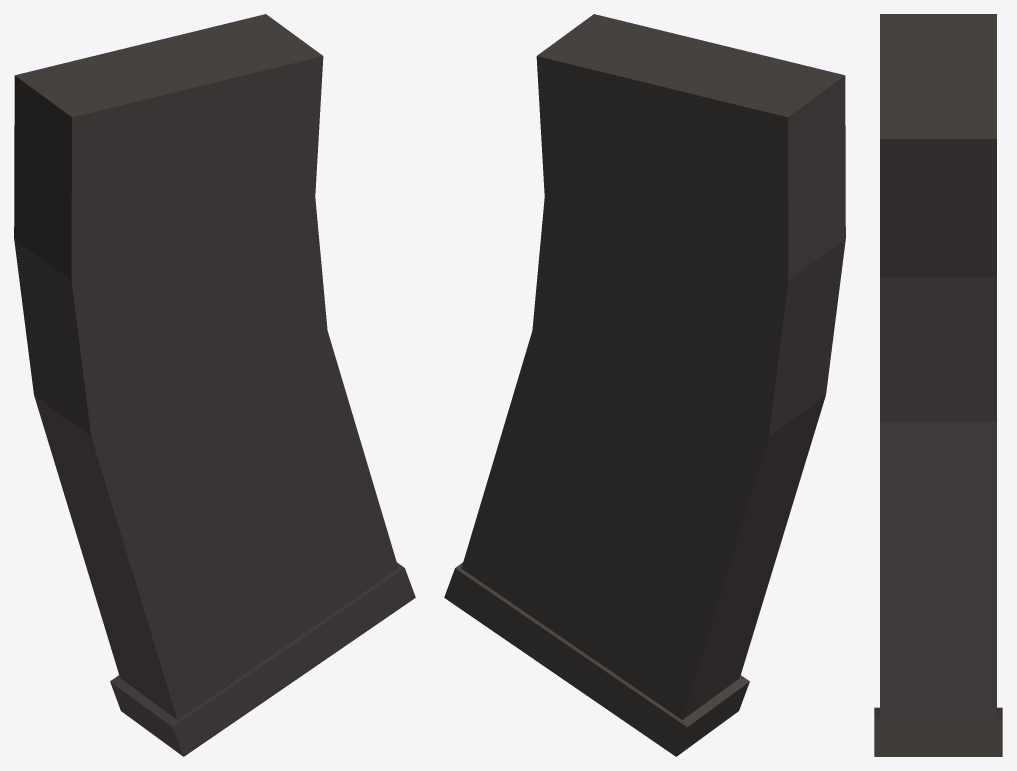
File: AssaultRifle3_03_2.fbx
3 renders of one model, left to right at view 1: azimuth 30°, elevation 25°; view 2: azimuth 150°, elevation 25°; view 3: azimuth 270°, elevation 25°, orthographic. The views are drawn at different scales.
Parts seen in each view (by area): view 1: AssaultRifle3_03_2; view 2: AssaultRifle3_03_2; view 3: AssaultRifle3_03_2.
Part boxes in pixels (x1=…): AssaultRifle3_03_2: x1=14, y1=14, x2=415, y2=756; AssaultRifle3_03_2: x1=444, y1=14, x2=845, y2=756; AssaultRifle3_03_2: x1=874, y1=14, x2=1002, y2=756.
Size of the model in its own units: 0.1088 by 0.2022 by 0.0346.
